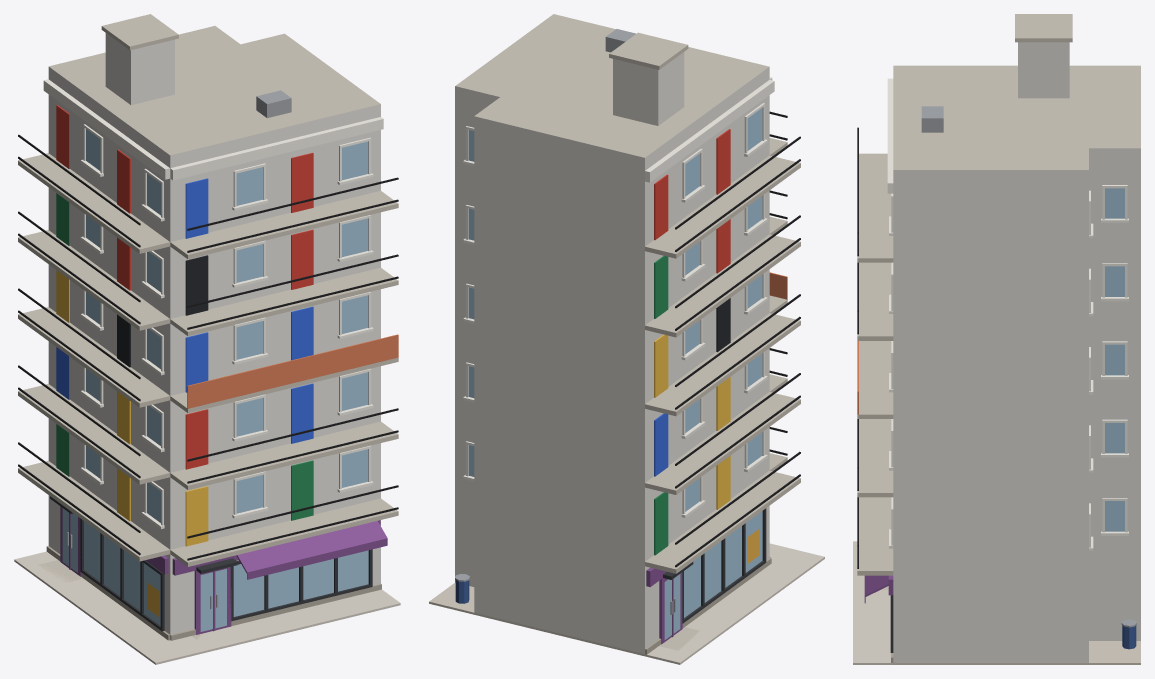
The model's file is Blok_kose_6k_4_Hafif.fbx.
3 views of the same model, side by side, from view 1: azimuth 30°, elevation 25°; view 2: azimuth 150°, elevation 25°; view 3: azimuth 270°, elevation 25° (orthographic). The views are drawn at different scales.
Visible parts, largest first — view 1: Blok_kose_6k_4_Hafif; view 2: Blok_kose_6k_4_Hafif; view 3: Blok_kose_6k_4_Hafif.
Part boxes in pixels (x1=…): Blok_kose_6k_4_Hafif: x1=14, y1=14, x2=400, y2=664; Blok_kose_6k_4_Hafif: x1=429, y1=14, x2=824, y2=664; Blok_kose_6k_4_Hafif: x1=853, y1=14, x2=1140, y2=664.
Bounding box in the file's own units: 10 × 21.37 × 10.
